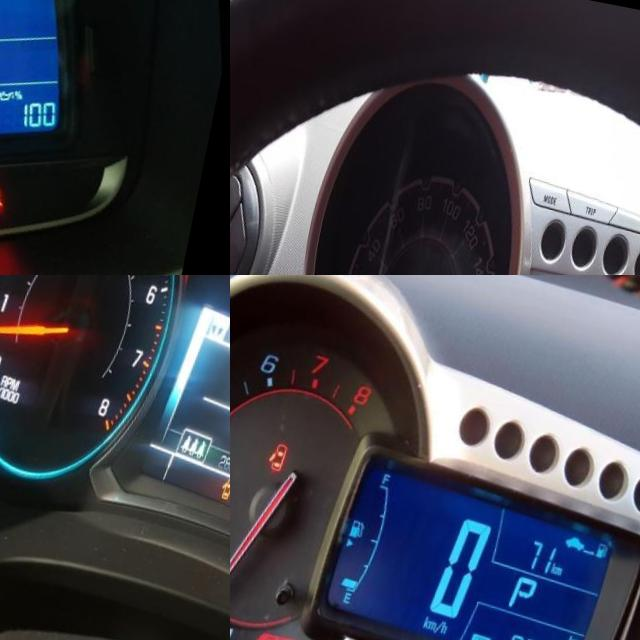Doors: (276, 430, 300, 465)
